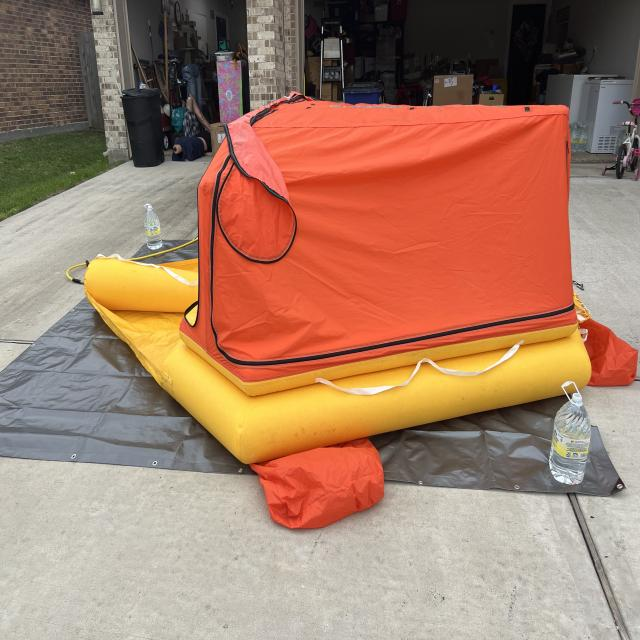Multi-person_life_raft: (84, 91, 637, 529)
